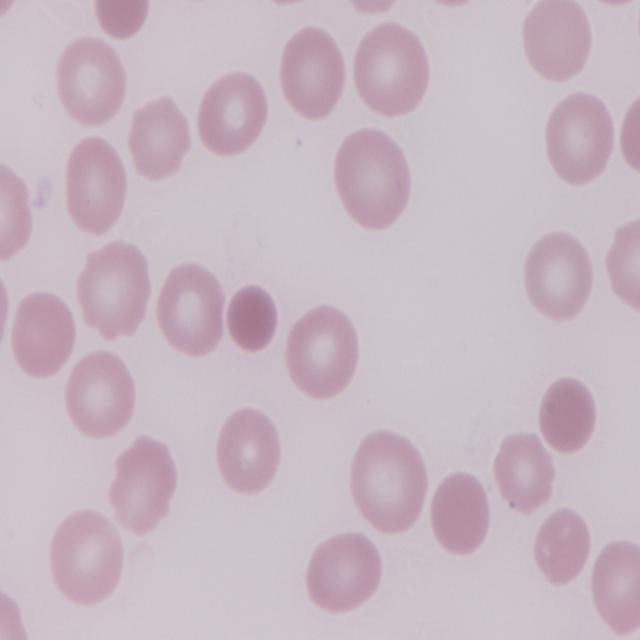RBC: (332, 126, 416, 237), (346, 424, 428, 534), (72, 235, 152, 344), (284, 302, 364, 403), (349, 18, 431, 116), (49, 507, 127, 609), (105, 431, 179, 536), (52, 36, 128, 136), (540, 90, 616, 189), (152, 258, 227, 358), (60, 132, 130, 238), (304, 528, 386, 618), (64, 344, 140, 440), (277, 26, 349, 126), (6, 284, 80, 380), (193, 71, 270, 162), (522, 230, 594, 326), (518, 0, 592, 87), (216, 406, 286, 496), (126, 92, 190, 186), (494, 429, 560, 516), (588, 535, 640, 634), (532, 503, 590, 590), (0, 155, 34, 269), (604, 211, 640, 312)
Spherocyte: (426, 466, 492, 555), (536, 371, 602, 456), (226, 278, 280, 356), (90, 0, 153, 39)
